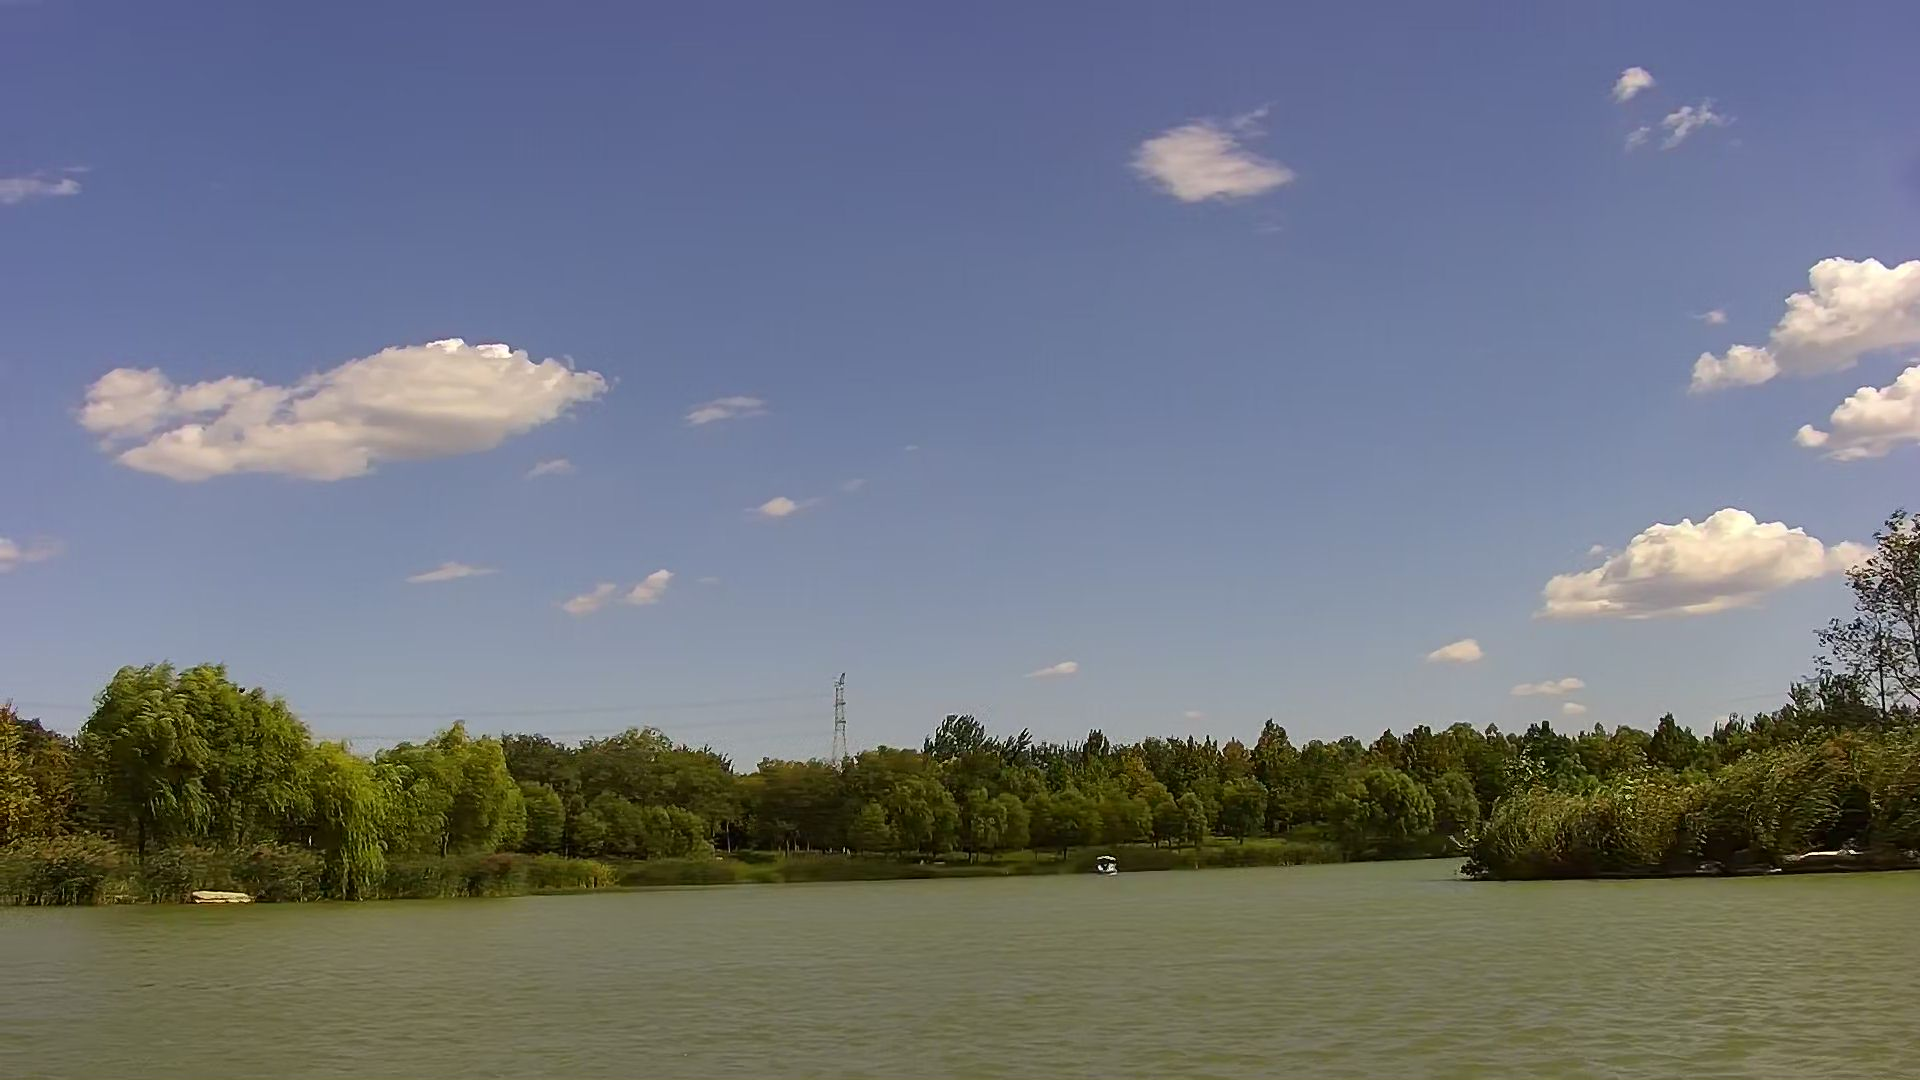boat: (1093, 855, 1114, 873)
